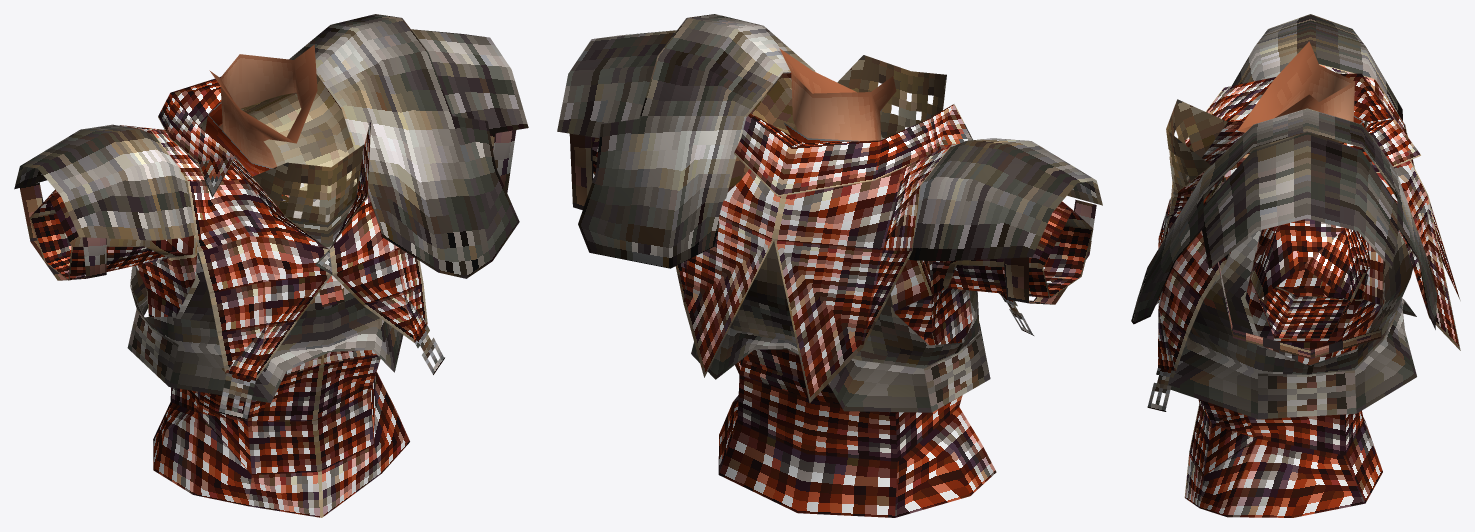
The model's file is f_body040.glb.
3 renders of one model, left to right at view 1: azimuth 30°, elevation 25°; view 2: azimuth 150°, elevation 25°; view 3: azimuth 270°, elevation 25°, orthographic. The views are drawn at different scales.
Size of the model in its own units: 66.28 by 59.41 by 40.61.
2 materials, 2 textured.
